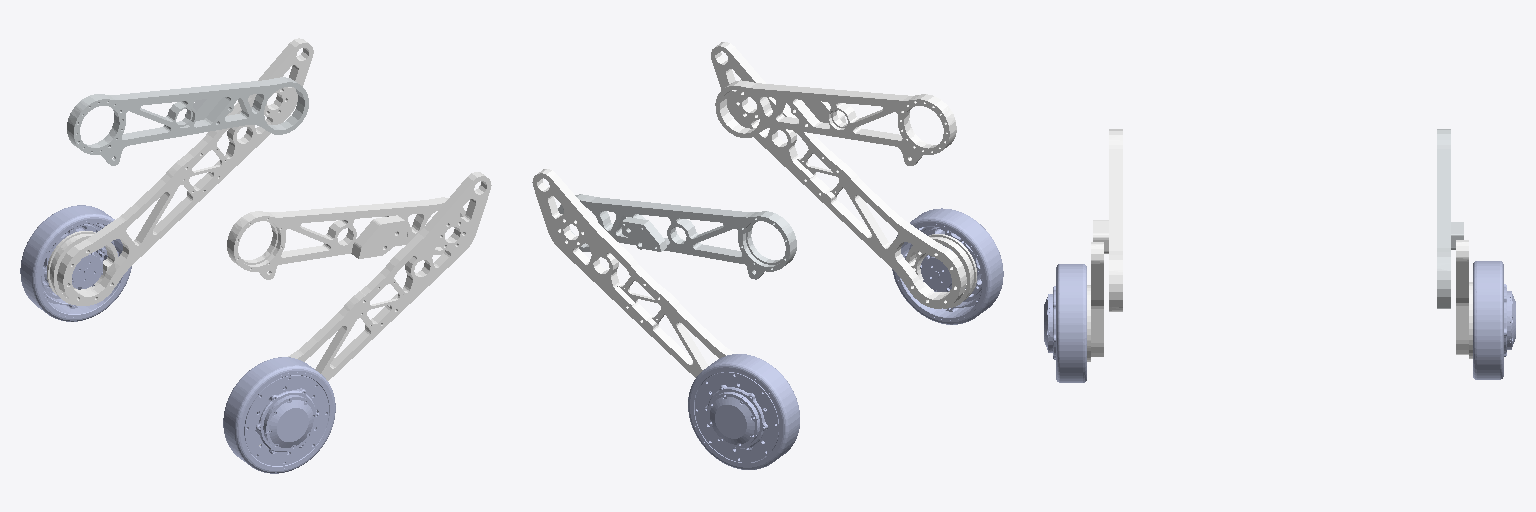
robot.urdf — wl:
<?xml version="1.0" encoding="utf-8"?>
<!-- This URDF was automatically created by SolidWorks to URDF Exporter! Originally created by Stephen Brawner (brawner@gmail.com)
     Commit Version: 1.6.0-4-g7f85cfe  Build Version: 1.6.7995.38578
     For more information, please see http://wiki.ros.org/sw_urdf_exporter -->
<robot
  name="wl">
  <link
    name="base_link">
    <inertial>
      <origin
        xyz="-0.0205577899248541 0.00229357926072411 0.0310368876457462"
        rpy="0 0 0" />
      <mass
        value="9.92239814270616" />
      <inertia
        ixx="0.112159326570558"
        ixy="-3.56373682297612E-05"
        ixz="0.00011379640319594"
        iyy="0.0510449628843494"
        iyz="-1.05450513389096E-05"
        izz="0.088171165047631" />
    </inertial>
    <visual>
      <origin
        xyz="0 0 0"
        rpy="0 0 0" />
      <geometry>
        <mesh
          filename="../meshes/base_link.STL" />
      </geometry>
      <material
        name="">
        <color
          rgba="0.898039215686275 0.917647058823529 0.929411764705882 1" />
      </material>
    </visual>
    <collision>
      <origin
        xyz="0 0 0"
        rpy="0 0 0" />
      <geometry>
        <mesh
          filename="../meshes/base_link.STL" />
      </geometry>
    </collision>
  </link>
  <link
    name="lf0_Link">
    <inertial>
      <origin
        xyz="0.10575 0.011646 -0.011434"
        rpy="0 0 0" />
      <mass
        value="0.22671" />
      <inertia
        ixx="9.1136E-05"
        ixy="-0.0001302"
        ixz="-3.4713E-06"
        iyy="0.0011866"
        iyz="2.286E-07"
        izz="0.0012704" />
    </inertial>
    <visual>
      <origin
        xyz="0 0 0"
        rpy="0 0 0" />
      <geometry>
        <mesh
          filename="../meshes/lf0_Link.STL" />
      </geometry>
      <material
        name="">
        <color
          rgba="0.89804 0.91765 0.92941 1" />
      </material>
    </visual>
    <collision>
      <origin
        xyz="0 0 0"
        rpy="0 0 0" />
      <geometry>
        <mesh
          filename="../meshes/lf0_Link.STL" />
      </geometry>
    </collision>
  </link>
  <joint
    name="lf0_Joint"
    type="continuous">
    <origin
      xyz="-0.0077481 0.16652 0.014601"
      rpy="-1.5708 0 0" />
    <parent
      link="base_link" />
    <child
      link="lf0_Link" />
    <axis
      xyz="0 0 1" />
  </joint>
  <link
    name="lf1_Link">
    <inertial>
      <origin
        xyz="-0.11224 0.075826 0.0026978"
        rpy="0 0 0" />
      <mass
        value="0.22939" />
      <inertia
        ixx="0.00068843"
        ixy="0.00085261"
        ixz="8.3959E-08"
        iyy="0.0012947"
        iyz="-3.3773E-08"
        izz="0.0019777" />
    </inertial>
    <visual>
      <origin
        xyz="0 0 0"
        rpy="0 0 0" />
      <geometry>
        <mesh
          filename="../meshes/lf1_Link.STL" />
      </geometry>
      <material
        name="">
        <color
          rgba="1 1 1 1" />
      </material>
    </visual>
    <collision>
      <origin
        xyz="0 0 0"
        rpy="0 0 0" />
      <geometry>
        <mesh
          filename="../meshes/lf1_Link.STL" />
      </geometry>
    </collision>
  </link>
  <joint
    name="lf1_Joint"
    type="revolute">
    <origin
      xyz="0.21472 0.029422 0.0062402"
      rpy="0 0 0" />
    <parent
      link="lf0_Link" />
    <child
      link="lf1_Link" />
    <axis
      xyz="0 0 1" />
    <limit
      lower="-0.6"
      upper="0.2"
      effort="40"
      velocity="1000" />
  </joint>
  <link
    name="l_wheel_Link">
    <inertial>
      <origin
        xyz="-8.13250947467592E-05 3.03208746523093E-05 0.0334197524399316"
        rpy="0 0 0" />
      <mass
        value="0.177580655363663" />
      <inertia
        ixx="0.000177597933793852"
        ixy="8.45566081802875E-08"
        ixz="3.12245321731448E-08"
        iyy="0.000177797889428625"
        iyz="-7.71814533103985E-09"
        izz="0.000337715737740758" />
    </inertial>
    <visual>
      <origin
        xyz="0 0 0"
        rpy="0 0 0" />
      <geometry>
        <mesh
          filename="../meshes/l_wheel_Link.STL" />
      </geometry>
      <material
        name="">
        <color
          rgba="0.792156862745098 0.819607843137255 0.933333333333333 1" />
      </material>
    </visual>
    <collision>
      <origin
        xyz="0 0 0.03"
        rpy="0 0 0" />
      <geometry>
        <cylinder
          length="0.0487"
          radius="0.058" />
      </geometry>
    </collision>
  </link>
  <joint
    name="l_wheel_Joint"
    type="continuous">
    <origin
      xyz="-0.210696556901918 0.141859628740362 -0.00599999999999937"
      rpy="0 0 0" />
    <parent
      link="lf1_Link" />
    <child
      link="l_wheel_Link" />
    <axis
      xyz="0 0 1" />
  </joint>
  <link
    name="rf0_Link">
    <inertial>
      <origin
        xyz="0.106837199546385 -0.0131767469599098 -0.0107525096247883"
        rpy="0 0 0" />
      <mass
        value="0.237147723000171" />
      <inertia
        ixx="9.68060329290281E-05"
        ixy="0.000146443536553271"
        ixz="-3.47438122043599E-06"
        iyy="0.00118529098607326"
        iyz="-1.75449453588467E-07"
        izz="0.00127422875302358" />
    </inertial>
    <visual>
      <origin
        xyz="0 0 0"
        rpy="0 0 0" />
      <geometry>
        <mesh
          filename="../meshes/rf0_Link.STL" />
      </geometry>
      <material
        name="">
        <color
          rgba="1 1 1 1" />
      </material>
    </visual>
    <collision>
      <origin
        xyz="0 0 0"
        rpy="0 0 0" />
      <geometry>
        <mesh
          filename="../meshes/rf0_Link.STL" />
      </geometry>
    </collision>
  </link>
  <joint
    name="rf0_Joint"
    type="continuous">
    <origin
      xyz="-0.00767633558745229 -0.176803872353463 0.0142033835799731"
      rpy="1.5707963267949 0 0" />
    <parent
      link="base_link" />
    <child
      link="rf0_Link" />
    <axis
      xyz="0 0 1" />
  </joint>
  <link
    name="rf1_Link">
    <inertial>
      <origin
        xyz="-0.111744733599728 -0.075974782411244 0.00281569417974681"
        rpy="0 0 0" />
      <mass
        value="0.229390429090394" />
      <inertia
        ixx="0.000685956396128991"
        ixy="-0.000856378759038052"
        ixz="-5.71763521995569E-08"
        iyy="0.00129712025985927"
        iyz="6.48611173031919E-08"
        izz="0.00197771770068823" />
    </inertial>
    <visual>
      <origin
        xyz="0 0 0"
        rpy="0 0 0" />
      <geometry>
        <mesh
          filename="../meshes/rf1_Link.STL" />
      </geometry>
      <material
        name="">
        <color
          rgba="1 1 1 1" />
      </material>
    </visual>
    <collision>
      <origin
        xyz="0 0 0"
        rpy="0 0 0" />
      <geometry>
        <mesh
          filename="../meshes/rf1_Link.STL" />
      </geometry>
    </collision>
  </link>
  <joint
    name="rf1_Joint"
    type="revolute">
    <origin
      xyz="0.21416 -0.032328 0.0062402"
      rpy="0 0 0" />
    <parent
      link="rf0_Link" />
    <child
      link="rf1_Link" />
    <axis
      xyz="0 0 1" />
    <limit
      lower="-0.2"
      upper="0.6"
      effort="40"
      velocity="1000" />
  </joint>
  <link
    name="r_wheel_Link">
    <inertial>
      <origin
        xyz="-1.61475375610731E-05 8.52785299987752E-05 0.0334197525201289"
        rpy="0 0 0" />
      <mass
        value="0.177580658617343" />
      <inertia
        ixx="0.000177819218723046"
        ixy="4.92959386063319E-08"
        ixz="9.55694732861707E-09"
        iyy="0.000177576605205523"
        iyz="-3.07118758989423E-08"
        izz="0.000337715738202895" />
    </inertial>
    <visual>
      <origin
        xyz="0 0 0"
        rpy="0 0 0" />
      <geometry>
        <mesh
          filename="../meshes/r_wheel_Link.STL" />
      </geometry>
      <material
        name="">
        <color
          rgba="0.792156862745098 0.819607843137255 0.933333333333333 1" />
      </material>
    </visual>
    <collision>
      <origin
        xyz="0 0 0.03"
        rpy="0 0 0" />
      <geometry>
        <cylinder
          length="0.0487"
          radius="0.058" />
      </geometry>
    </collision>
  </link>
  <joint
    name="r_wheel_Joint"
    type="continuous">
    <origin
      xyz="-0.210696556901869 -0.141859628740493 -0.00599999999999556"
      rpy="0 0 0" />
    <parent
      link="rf1_Link" />
    <child
      link="r_wheel_Link" />
    <axis
      xyz="0 0 1" />
  </joint>
</robot>

--- What the picture shows (computed from the rendered views, not written in the file) ---
Views: 3 orthographic renders of the robot side by side, from view 1: azimuth 30°, elevation 25°; view 2: azimuth 150°, elevation 25°; view 3: azimuth 270°, elevation 25°.
Model wl with 7 links and 6 joints (2 revolute, 4 continuous), rooted at base_link, posed all joints at 0.
Links seen in each view (by area): view 1: lf1_Link, r_wheel_Link, rf1_Link, lf0_Link, rf0_Link, l_wheel_Link; view 2: rf1_Link, l_wheel_Link, lf1_Link, rf0_Link, lf0_Link, r_wheel_Link; view 3: r_wheel_Link, l_wheel_Link, rf0_Link, lf0_Link, lf1_Link, rf1_Link.
Boxes of the visible links, bbox=[...] form: lf1_Link: bbox=[47, 38, 313, 305]; r_wheel_Link: bbox=[223, 357, 335, 473]; rf1_Link: bbox=[259, 172, 491, 445]; lf0_Link: bbox=[67, 77, 308, 165]; rf0_Link: bbox=[227, 197, 465, 279]; l_wheel_Link: bbox=[20, 205, 131, 321]; rf1_Link: bbox=[711, 42, 976, 308]; l_wheel_Link: bbox=[688, 354, 799, 469]; lf1_Link: bbox=[532, 169, 735, 377]; rf0_Link: bbox=[715, 80, 956, 165]; lf0_Link: bbox=[558, 194, 796, 279]; r_wheel_Link: bbox=[892, 208, 1003, 324]; r_wheel_Link: bbox=[1044, 264, 1086, 382]; l_wheel_Link: bbox=[1473, 261, 1515, 379]; rf0_Link: bbox=[1093, 129, 1122, 311]; lf0_Link: bbox=[1437, 129, 1463, 308]; lf1_Link: bbox=[1456, 240, 1472, 358]; rf1_Link: bbox=[1087, 242, 1103, 361].
Size in the robot's own frame: 0.3138 by 0.4589 by 0.2624 metres.
6 mesh visuals loaded from 7 distinct referenced files (6 binary STL); not drawn: 1 (reference not matched to a file when rendering).
